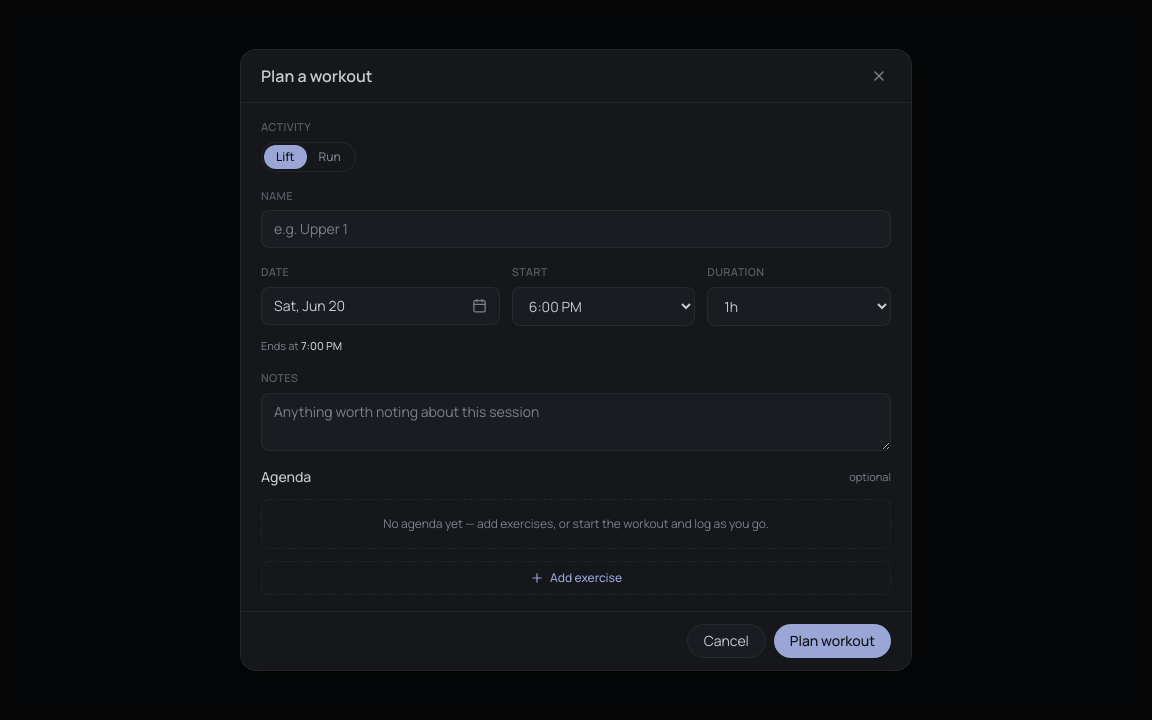
Scenario: PlannedWorkoutModal › requires reps on every set (weight stays optional)
Click the button "Add exercise".
click(576, 578)  # box [261, 561, 891, 595]
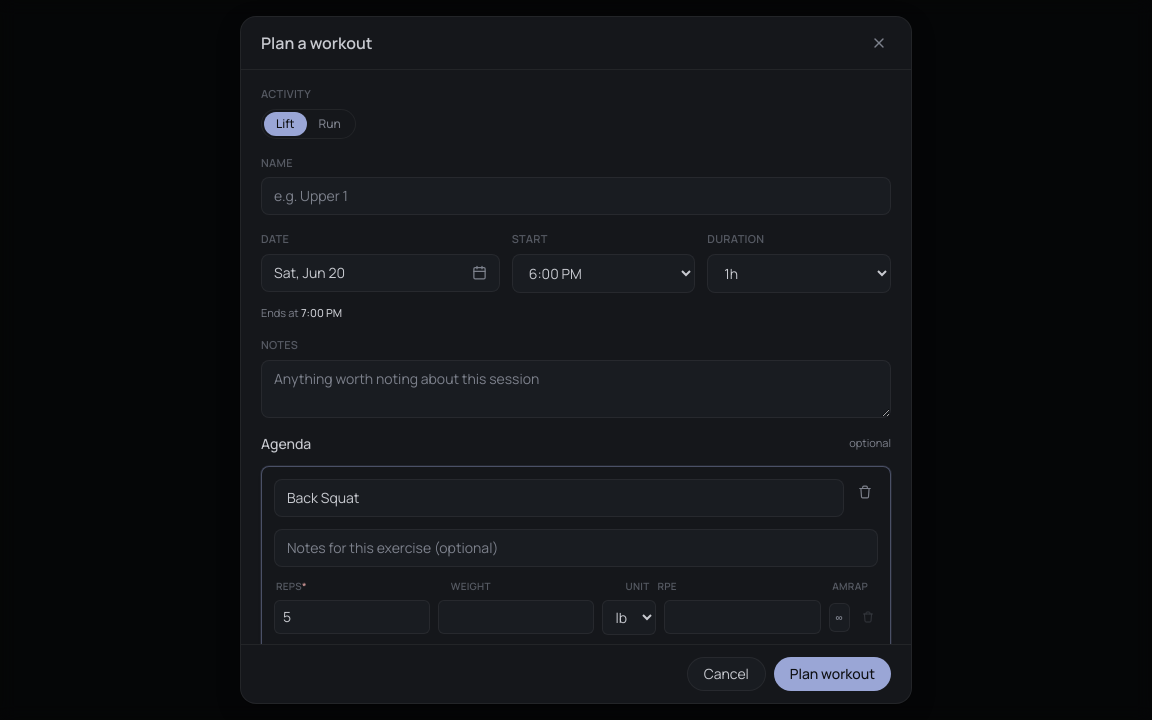
Check: the button "Plan workout" is enabled, box [774, 657, 891, 691]
Clear the number field named "Target reps" at (352, 617), box [274, 600, 430, 634]
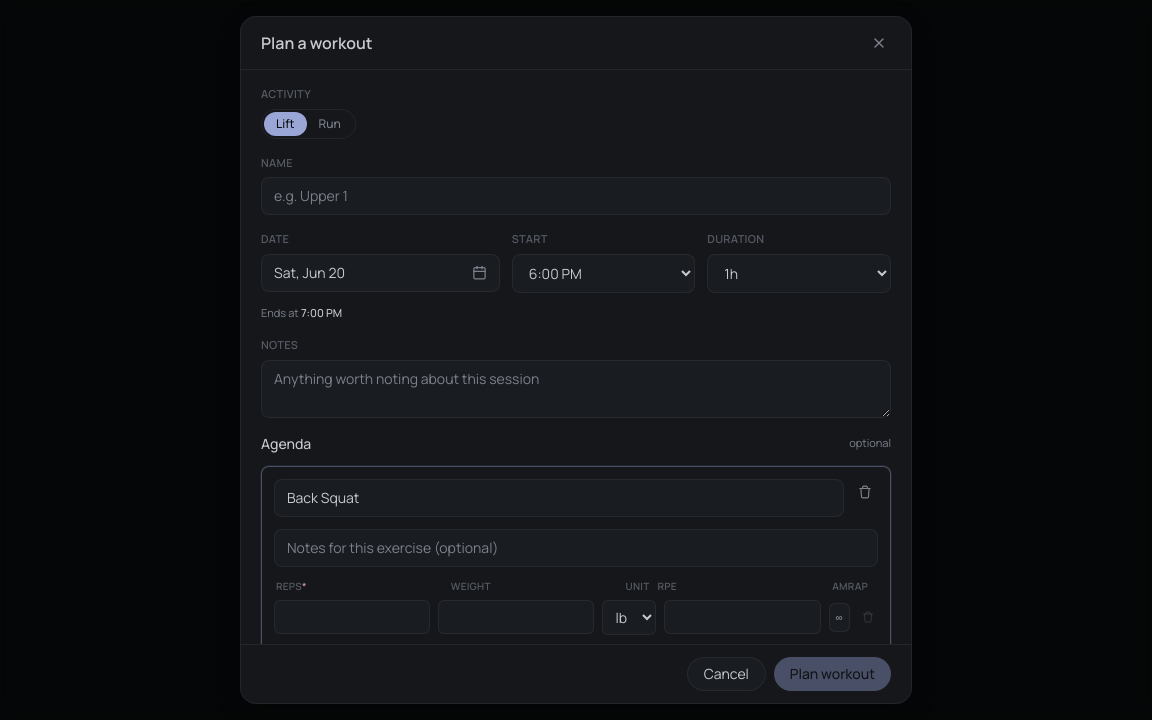
Check: the button "Plan workout" is disabled, box [774, 657, 891, 691]
